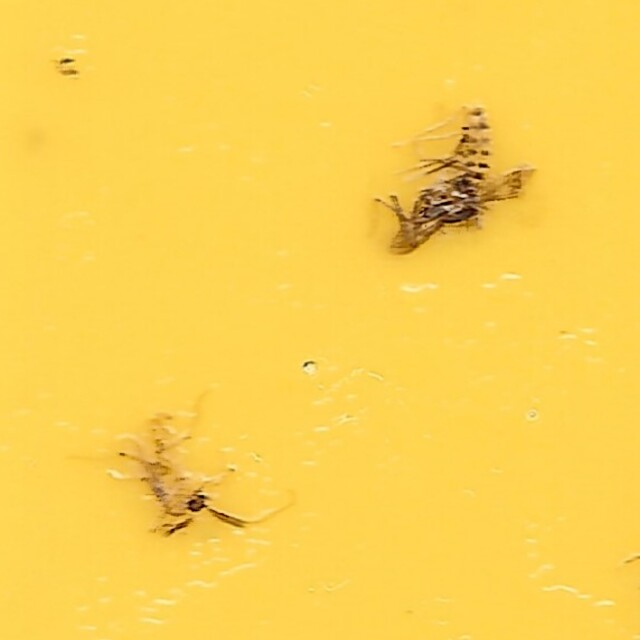Nematocera: (370, 98, 528, 255), (112, 417, 263, 542)
